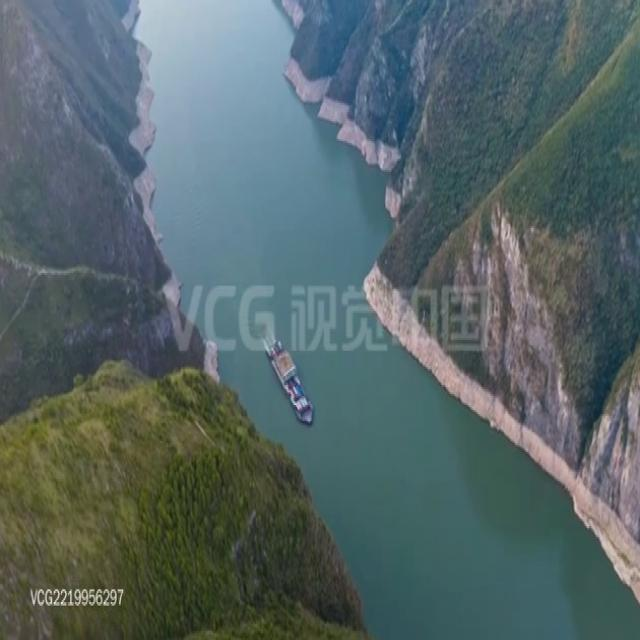cargoship: (263, 326, 316, 426)
